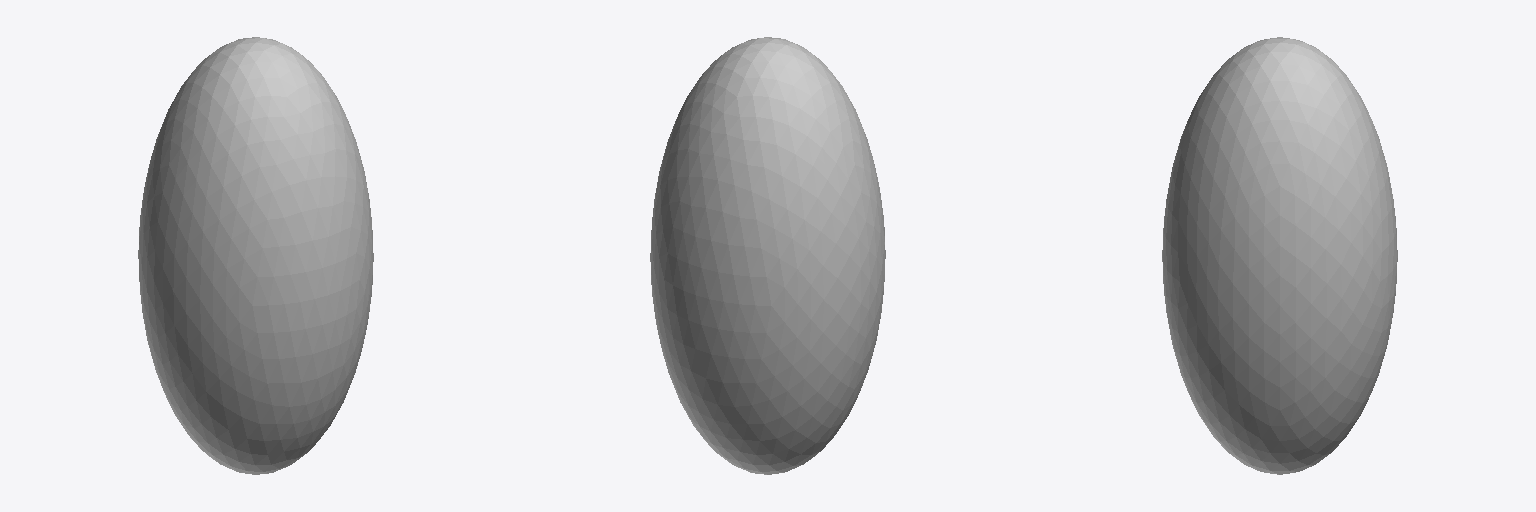
Rendered from ellipsoid2.obj.
3 views of the same model, side by side, from view 1: azimuth 30°, elevation 25°; view 2: azimuth 150°, elevation 25°; view 3: azimuth 270°, elevation 25° (orthographic).
Bounding box in the file's own units: 1 × 2 × 1.